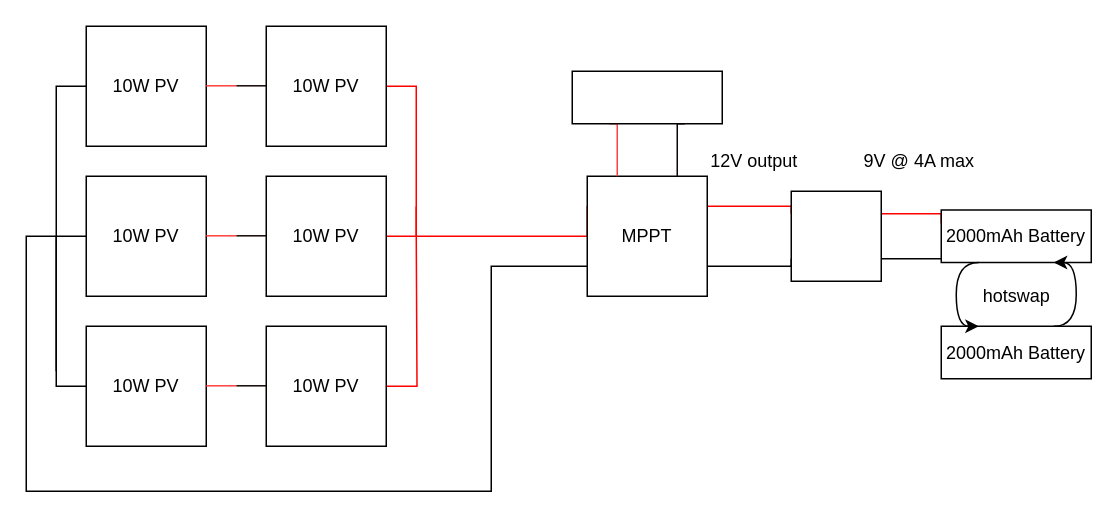
Some shapes in this 1118 by 519 pixel diagram are drawn without their labels. Each missing label, with the centre of its shape:
"12V" belongs at [646,97].
"Buck Converter" belongs at [835,235].
